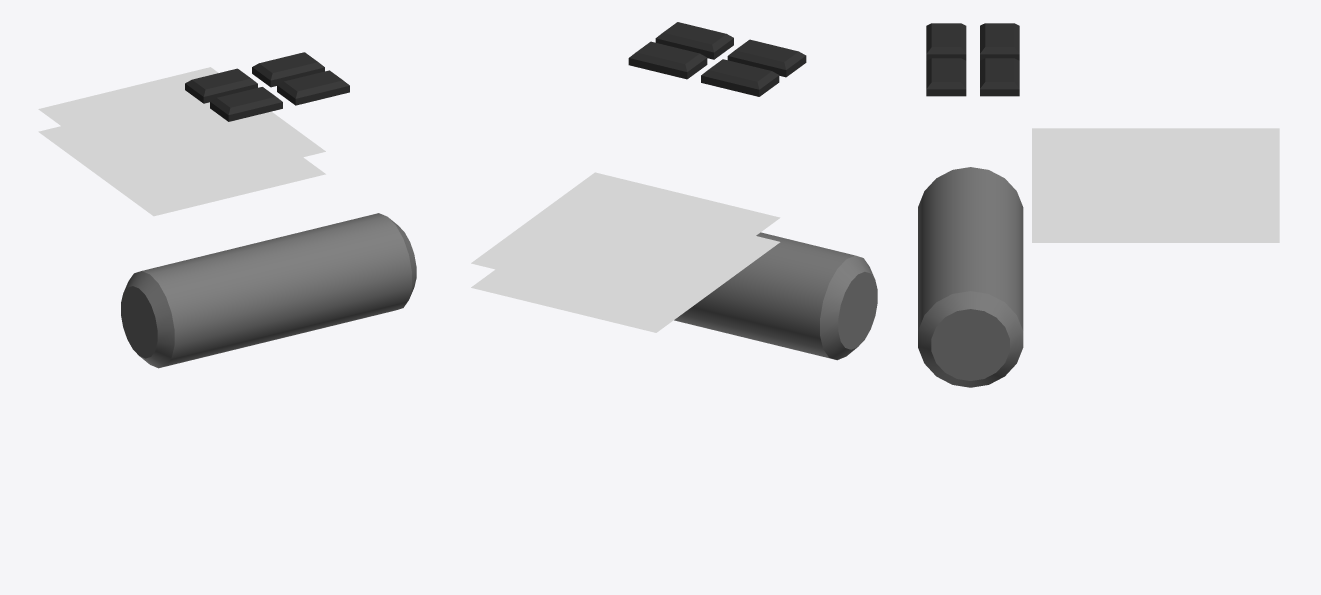
Rendered from Wea_MiaoZhunJing2.FBX.
3 views of the same model, side by side, from view 1: azimuth 30°, elevation 25°; view 2: azimuth 150°, elevation 25°; view 3: azimuth 270°, elevation 25° (orthographic). The views are drawn at different scales.
Visible parts, largest first — view 1: Box002; view 2: Box002; view 3: Box002.
Boxes of the visible parts, x1,y1,x2,y2 form: Box002: [38, 52, 416, 368]; Box002: [471, 22, 877, 360]; Box002: [918, 23, 1279, 387].
Bounding box in the file's own units: 1.2 × 2.05 × 1.5.
